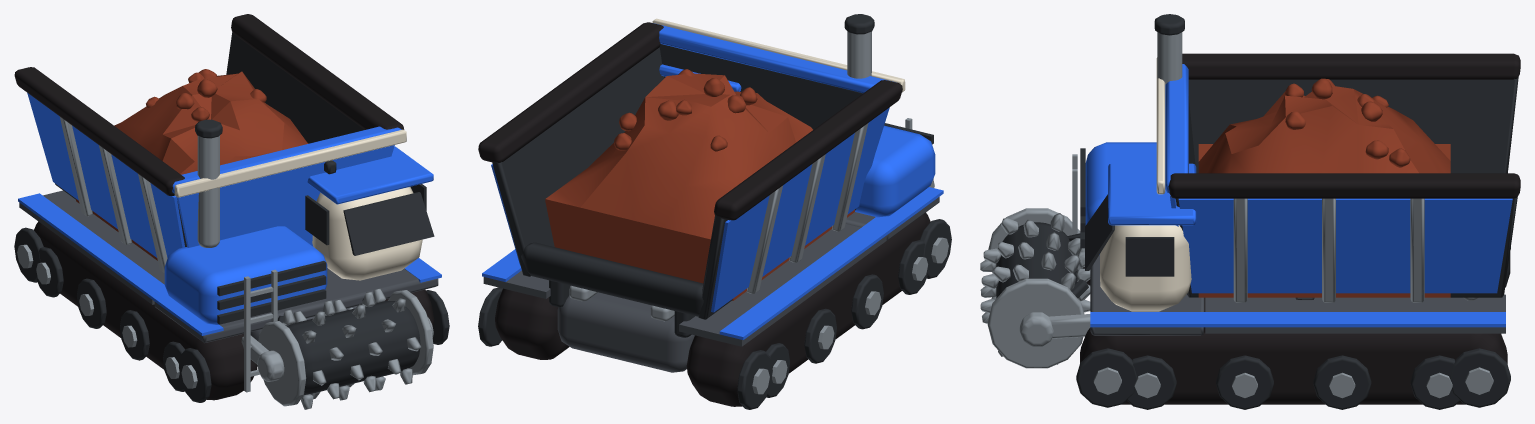
Rendered from mining_truck.glb.
3 views of the same model, side by side, from view 1: azimuth 30°, elevation 25°; view 2: azimuth 150°, elevation 25°; view 3: azimuth 270°, elevation 25° (orthographic). The views are drawn at different scales.
Visible parts, largest first — view 1: mining_truck__M_Team, bin__M_Team, mining_truck__M_Dark, bin_ore__M_Ore_Cinnamon, bin__M_Licorice, spinner__M_SpringSteel, mining_truck__M_Licorice, spinner__M_Dark, mining_truck__M_SmokePlastic, mining_truck__M_SpringSteel, bin__M_Dark, mining_truck__M_CreamPlastic (+2 smaller); view 2: bin_ore__M_Ore_Cinnamon, bin__M_Dark, bin__M_Team, mining_truck__M_Licorice, mining_truck__M_SmokePlastic, bin__M_Licorice, mining_truck__M_Team, mining_truck__M_Dark, mining_truck__M_SpringSteel, bin__M_SpringSteel, bin__M_CreamPlastic; view 3: bin__M_Team, bin__M_Licorice, bin_ore__M_Ore_Cinnamon, mining_truck__M_Licorice, mining_truck__M_Dark, bin__M_Dark, mining_truck__M_Team, spinner__M_SpringSteel, mining_truck__M_SmokePlastic, mining_truck__M_SpringSteel, mining_truck__M_CreamPlastic, bin__M_SpringSteel (+2 smaller).
Boxes of the visible parts, bbox=[...] form: mining_truck__M_Team: bbox=[18, 146, 441, 335]; bin__M_Team: bbox=[27, 93, 401, 257]; mining_truck__M_Dark: bbox=[14, 119, 449, 402]; bin_ore__M_Ore_Cinnamon: bbox=[76, 69, 308, 260]; bin__M_Licorice: bbox=[14, 14, 404, 195]; spinner__M_SpringSteel: bbox=[257, 288, 433, 409]; mining_truck__M_Licorice: bbox=[34, 221, 434, 400]; spinner__M_Dark: bbox=[286, 301, 420, 394]; mining_truck__M_SmokePlastic: bbox=[19, 190, 438, 342]; mining_truck__M_SpringSteel: bbox=[17, 135, 277, 392]; bin__M_Dark: bbox=[55, 32, 364, 246]; mining_truck__M_CreamPlastic: bbox=[312, 187, 422, 280]; bin_ore__M_Ore_Cinnamon: bbox=[545, 69, 854, 300]; bin__M_Dark: bbox=[492, 44, 862, 319]; bin__M_Team: bbox=[491, 23, 893, 312]; mining_truck__M_Licorice: bbox=[495, 212, 930, 406]; mining_truck__M_SmokePlastic: bbox=[483, 197, 939, 372]; bin__M_Licorice: bbox=[478, 22, 902, 220]; mining_truck__M_Team: bbox=[482, 64, 943, 339]; mining_truck__M_Dark: bbox=[478, 14, 951, 409]; mining_truck__M_SpringSteel: bbox=[569, 31, 948, 394]; bin__M_SpringSteel: bbox=[746, 123, 868, 293]; bin__M_CreamPlastic: bbox=[652, 18, 905, 92]; bin__M_Team: bbox=[1165, 64, 1512, 293]; bin__M_Licorice: bbox=[1168, 53, 1520, 198]; bin_ore__M_Ore_Cinnamon: bbox=[1198, 78, 1450, 297]; mining_truck__M_Licorice: bbox=[1080, 267, 1507, 404]; mining_truck__M_Dark: bbox=[1067, 14, 1510, 409]; bin__M_Dark: bbox=[1175, 77, 1518, 297]; mining_truck__M_Team: bbox=[1085, 142, 1505, 327]; spinner__M_SpringSteel: bbox=[980, 208, 1090, 368]; mining_truck__M_SmokePlastic: bbox=[1090, 254, 1505, 335]; mining_truck__M_SpringSteel: bbox=[1049, 32, 1493, 398]; mining_truck__M_CreamPlastic: bbox=[1100, 225, 1191, 311]; bin__M_SpringSteel: bbox=[1233, 198, 1477, 302].
Size of the model in its own units: 0.746 by 0.715 by 1.22.
